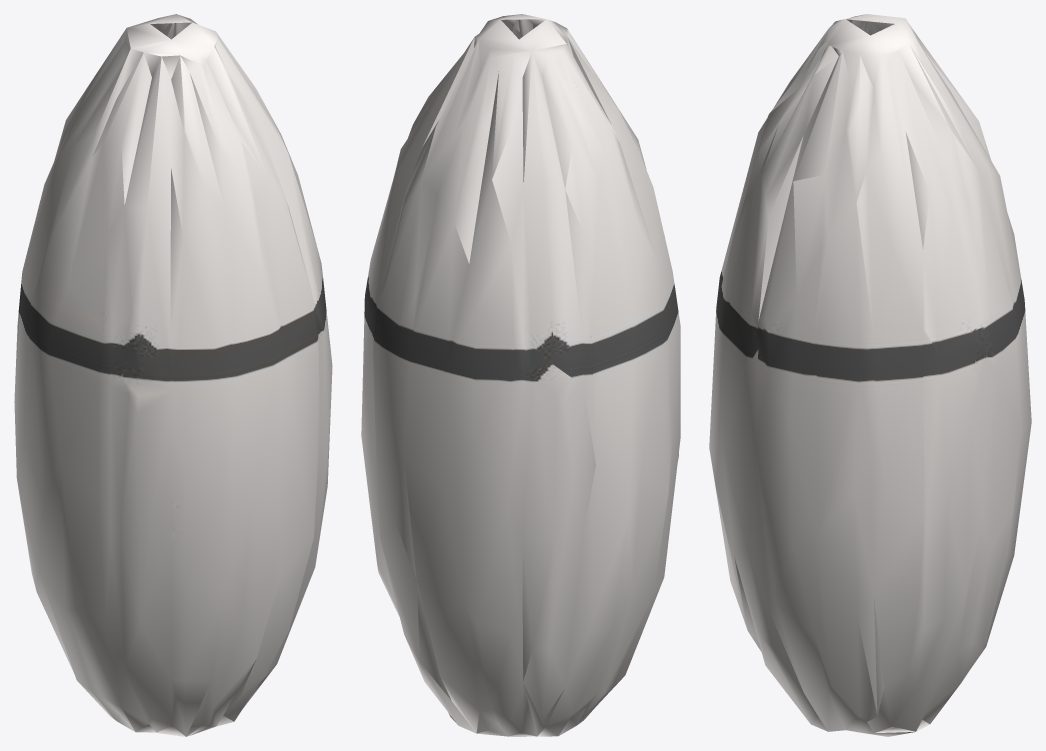
The model's file is Vase0005.obj.
The picture shows the model from 3 angles, left to right: view 1: azimuth 30°, elevation 25°; view 2: azimuth 150°, elevation 25°; view 3: azimuth 270°, elevation 25°; orthographic projection.
Bounding box in the file's own units: 0.091 × 0.218 × 0.092.
1 material, 1 textured.
